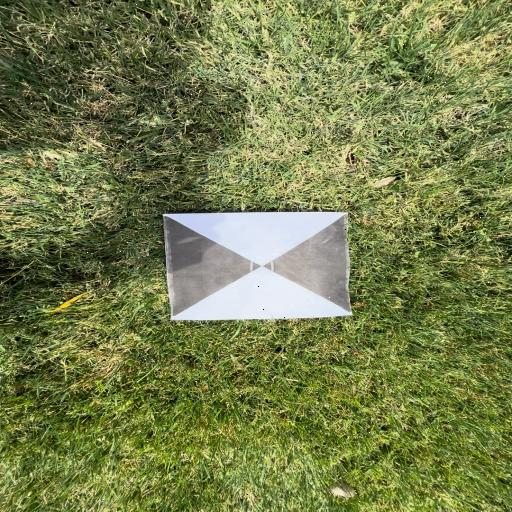target: (164, 213, 353, 320)
